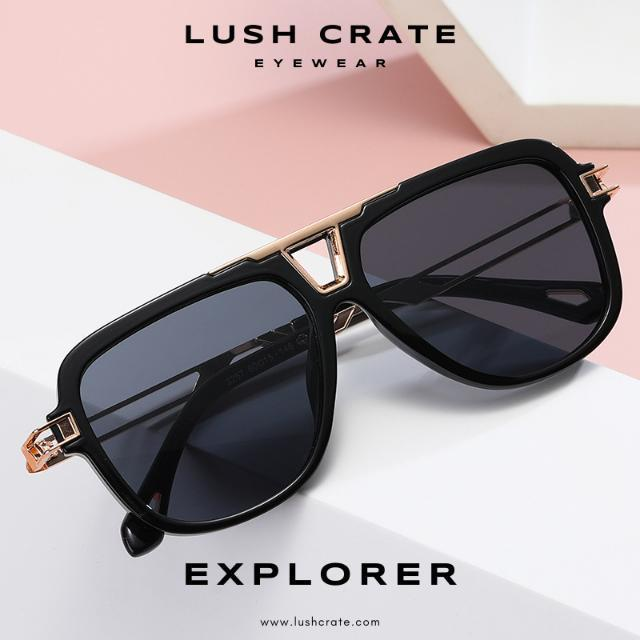sunglasses: (0, 117, 620, 558)
